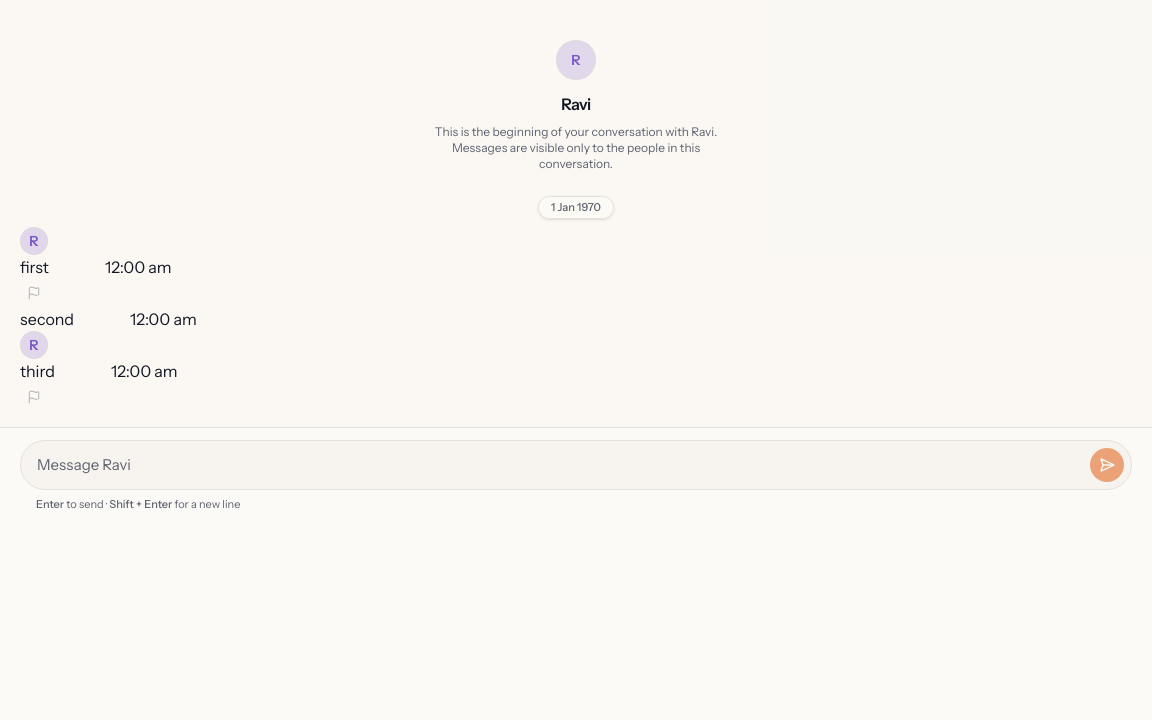
Test: Thread › shows the server's safe message when a send is refused
The width and height of the screenshot is (1152, 720).
Type "x" into the text box labelled "Message" at (559, 465), box [37, 446, 1081, 483]
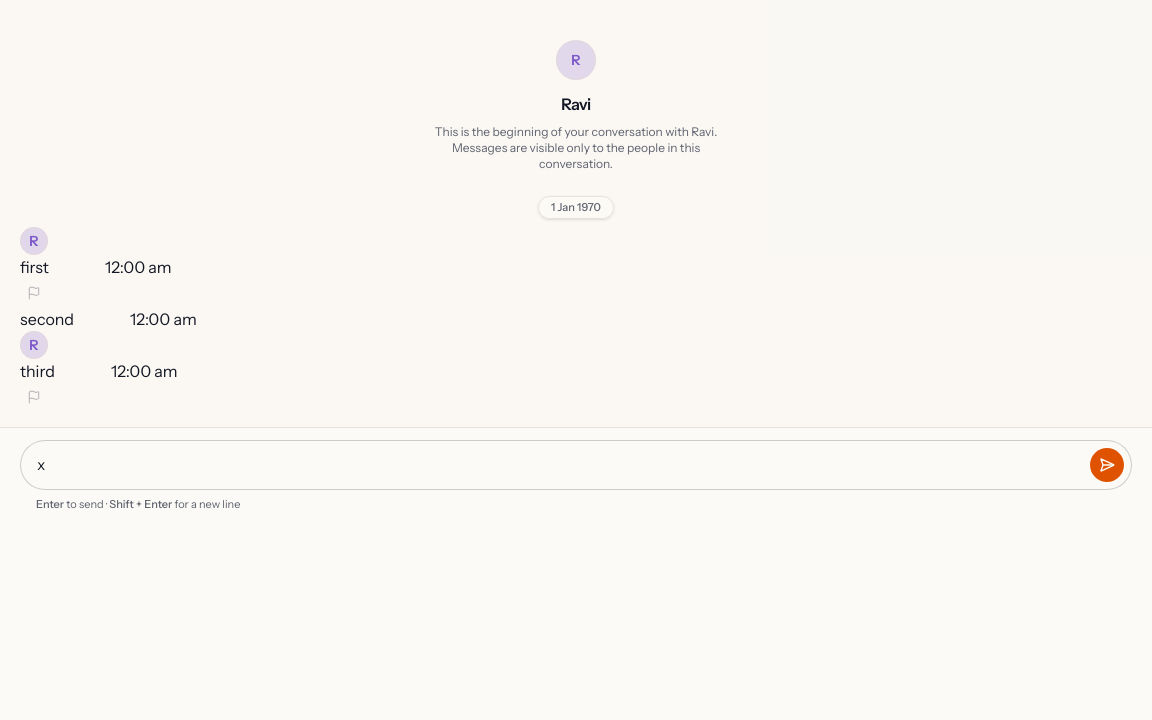
Click the button named "Send" at (1107, 465), box [1089, 447, 1125, 483]
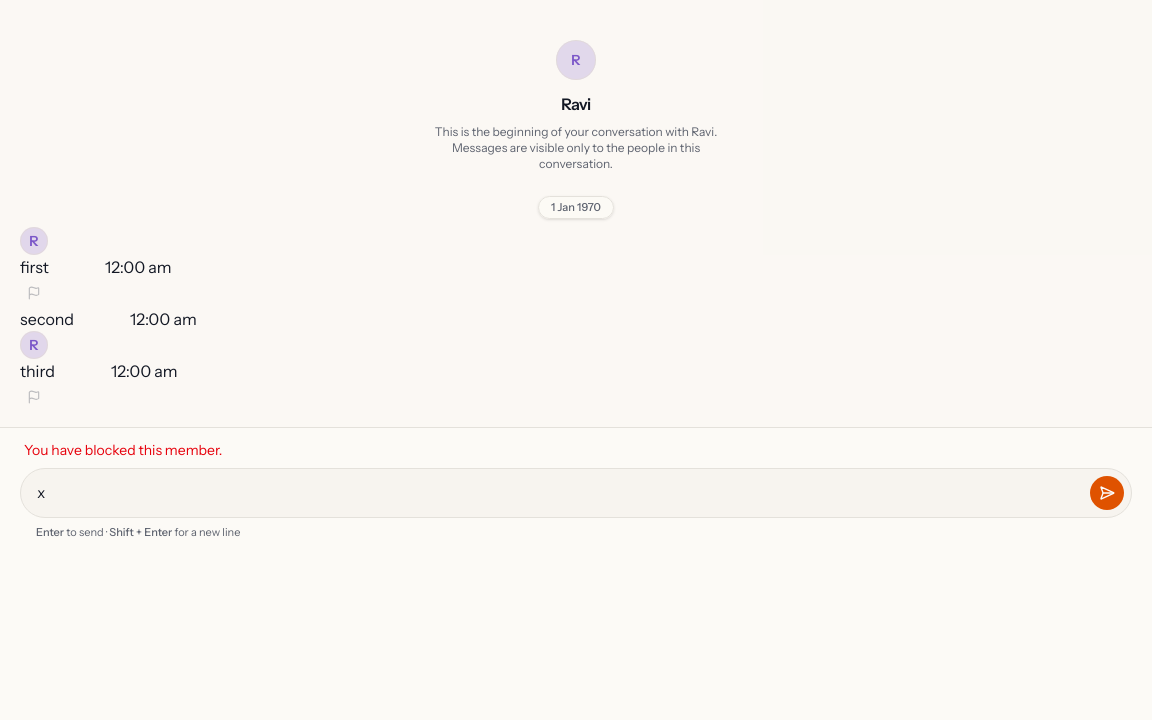
Check: the message reads "You have blocked this member.", box [24, 440, 222, 458]
